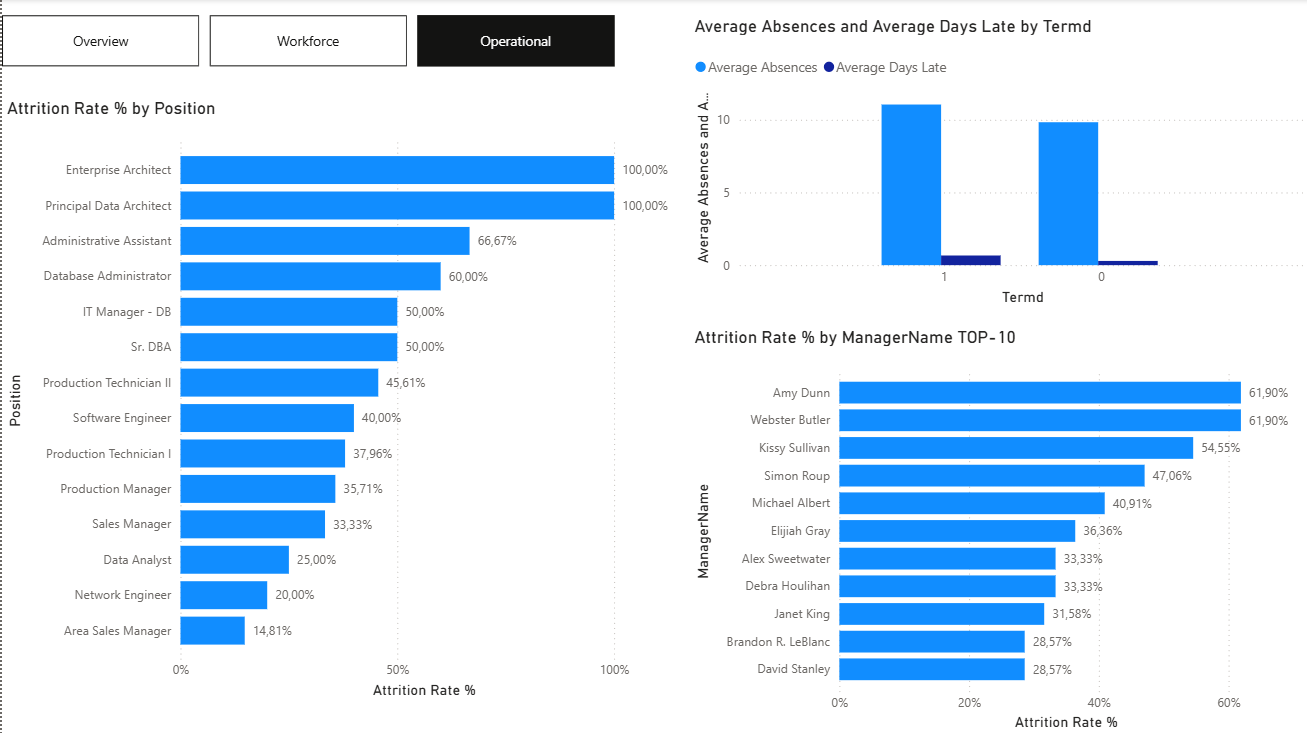

The dashboard page shown, as its layout file describes it:
{"tool":"powerbi","page":{"name":"Operational","canvas":[1280,720],"ordinal":2},"visuals":[{"type":"clusteredBarChart","fields":{"Y":["_Measures.Attrition Rate %"],"Category":["HRDataset_v14.Position"]},"box":[0,96,672,592],"z":0},{"type":"clusteredBarChart","title":"Attrition Rate % by ManagerName TOP-10","fields":{"Y":["_Measures.Attrition Rate %"],"Category":["HRDataset_v14.ManagerName"]},"box":[672,320,608,400],"z":1000},{"type":"clusteredColumnChart","fields":{"Y":["_Measures.Average Absences","_Measures.Average Days Late"],"Category":["HRDataset_v14.Termd"]},"box":[672,16,608,288],"z":2000},{"type":"pageNavigator","box":[0,0,600,50],"z":3000}]}

Visuals, with their boxes in screenshot pixels (x1, y1, x2, y2), scaled from the page's 1280x720 canvas onto the 1307x733 screenshot:
clusteredBarChart - _Measures.Attrition Rate % x HRDataset_v14.Position: detection(0, 98, 686, 700)
"Attrition Rate % by ManagerName TOP-10" clusteredBarChart: detection(686, 326, 1306, 732)
clusteredColumnChart - _Measures.Average Absences x _Measures.Average Days Late: detection(686, 16, 1306, 309)
pageNavigator: detection(0, 0, 613, 51)
